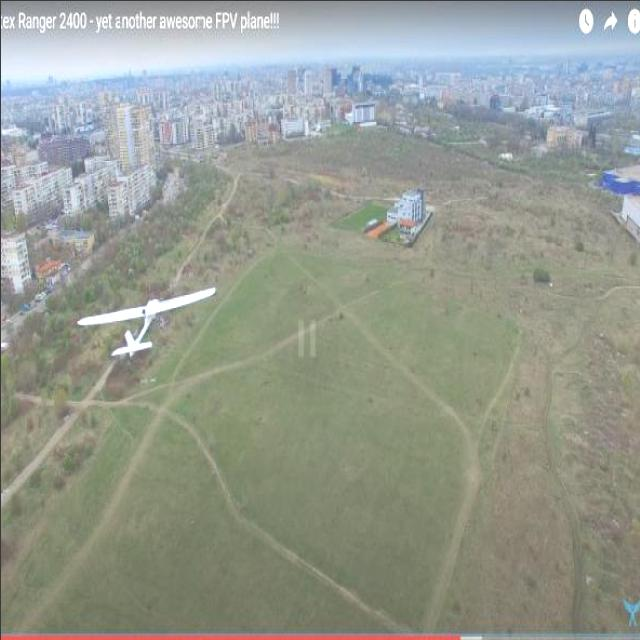plane: (76, 284, 218, 359)
